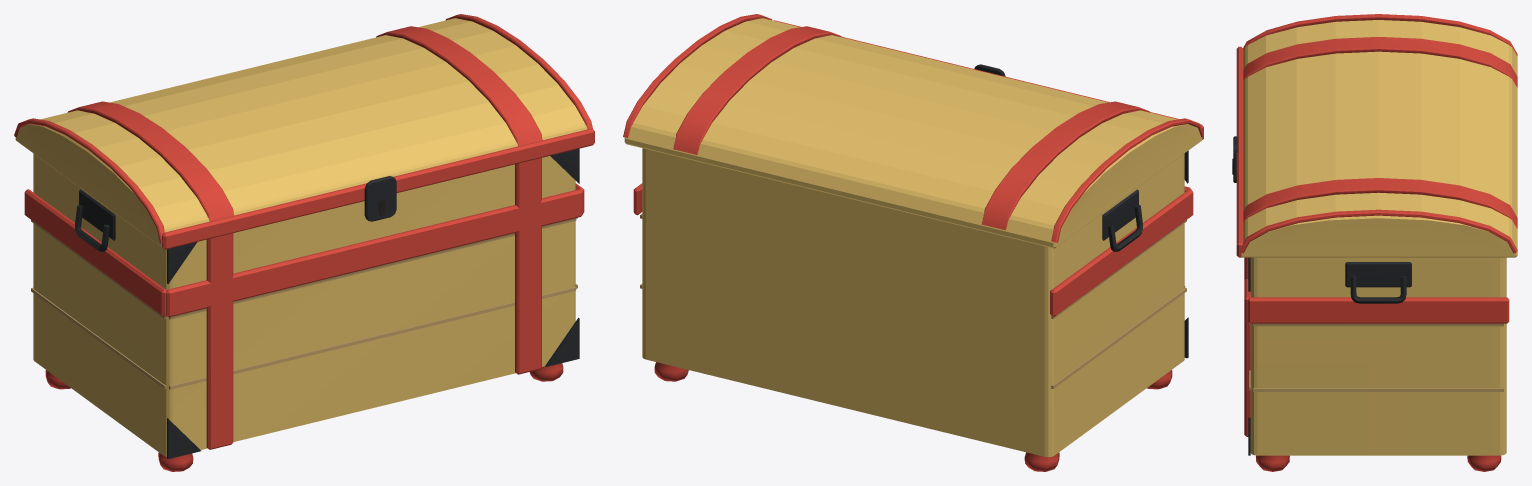
File: toyChest.glb
The picture shows the model from 3 angles, left to right: view 1: azimuth 30°, elevation 25°; view 2: azimuth 150°, elevation 25°; view 3: azimuth 270°, elevation 25°; orthographic projection. The views are drawn at different scales.
Parts seen in each view (by area): view 1: body, lid; view 2: body, lid; view 3: lid, body.
Part boxes in pixels (x1,y1,x2,y2): body: (24, 148, 584, 471); lid: (14, 14, 594, 249); body: (633, 148, 1193, 471); lid: (623, 14, 1203, 248); lid: (1232, 14, 1517, 257); body: (1244, 257, 1509, 471).
Size of the model in its own units: 0.844 by 0.533 by 0.513.
